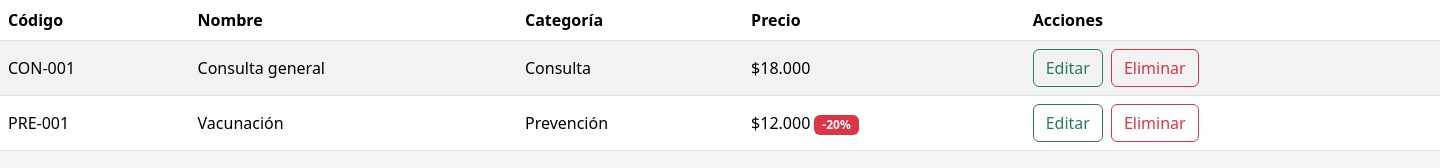
TablaServiciosAdmin › pide confirmación antes de eliminar y NO elimina todavía
The image size is (1440, 168).
Click the button "Eliminar" in the row of "CON-001". click: (1155, 68)
box: [1111,49,1199,87]
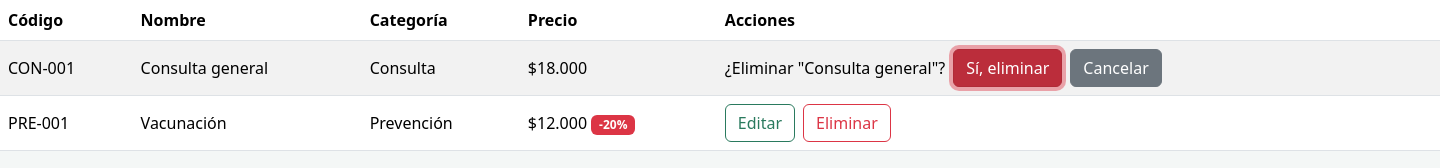
Expected: the text "¿Eliminar \"Consulta general\"?" is shown, [725,56,945,80]
